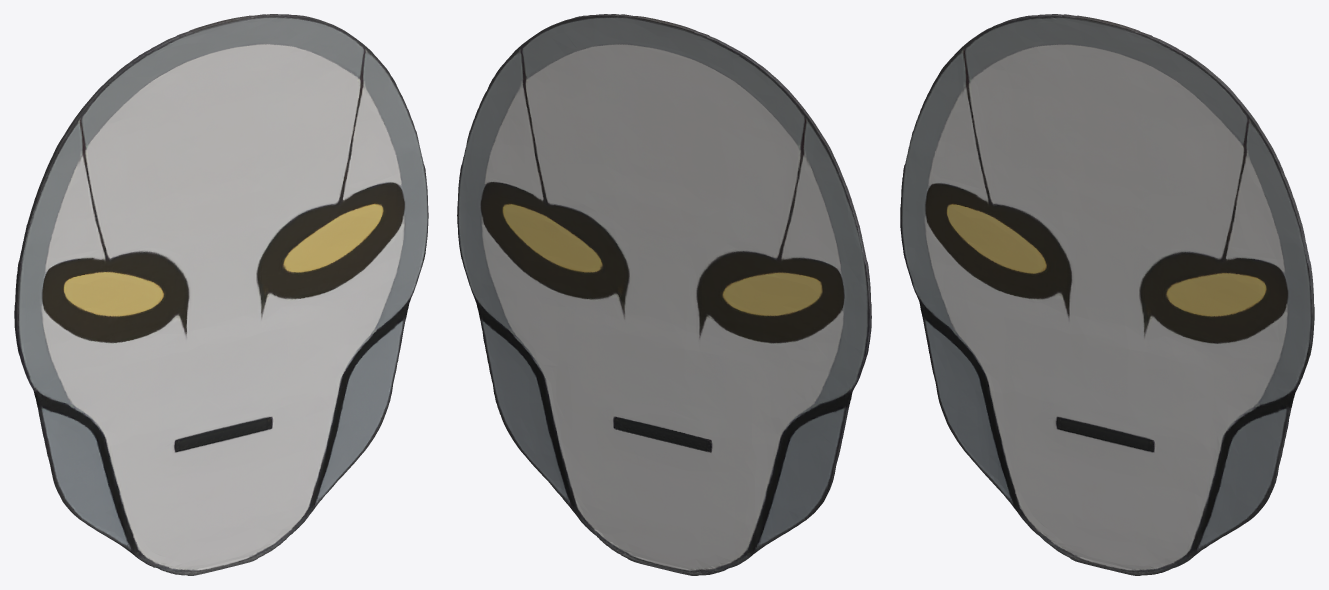
The model's file is lumen.glb.
3 renders of one model, left to right at view 1: azimuth 30°, elevation 25°; view 2: azimuth 150°, elevation 25°; view 3: azimuth 330°, elevation 25°, orthographic.
Visible parts, largest first — view 1: world; view 2: world; view 3: world.
Part boxes in pixels (<box>): world: <box>14,14,428,575</box>; world: <box>457,14,871,575</box>; world: <box>900,14,1314,575</box>.
Size of the model in its own units: 0.7901 by 1 by 0.0138.
1 material, 1 textured.
